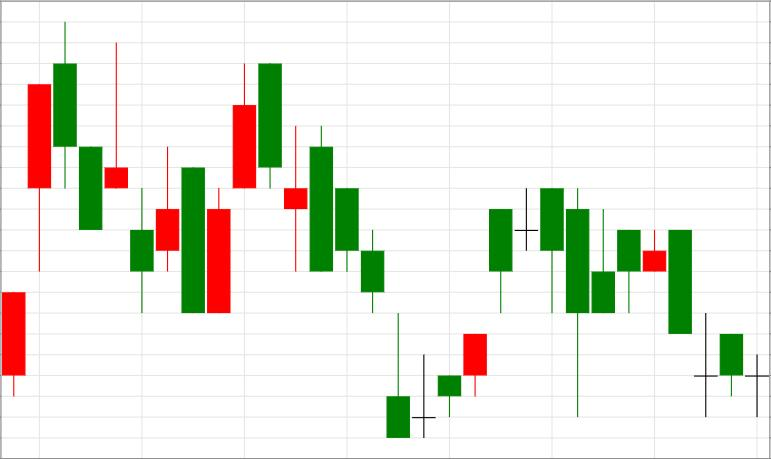inverse_hammer_rise: (258, 63, 409, 438)
